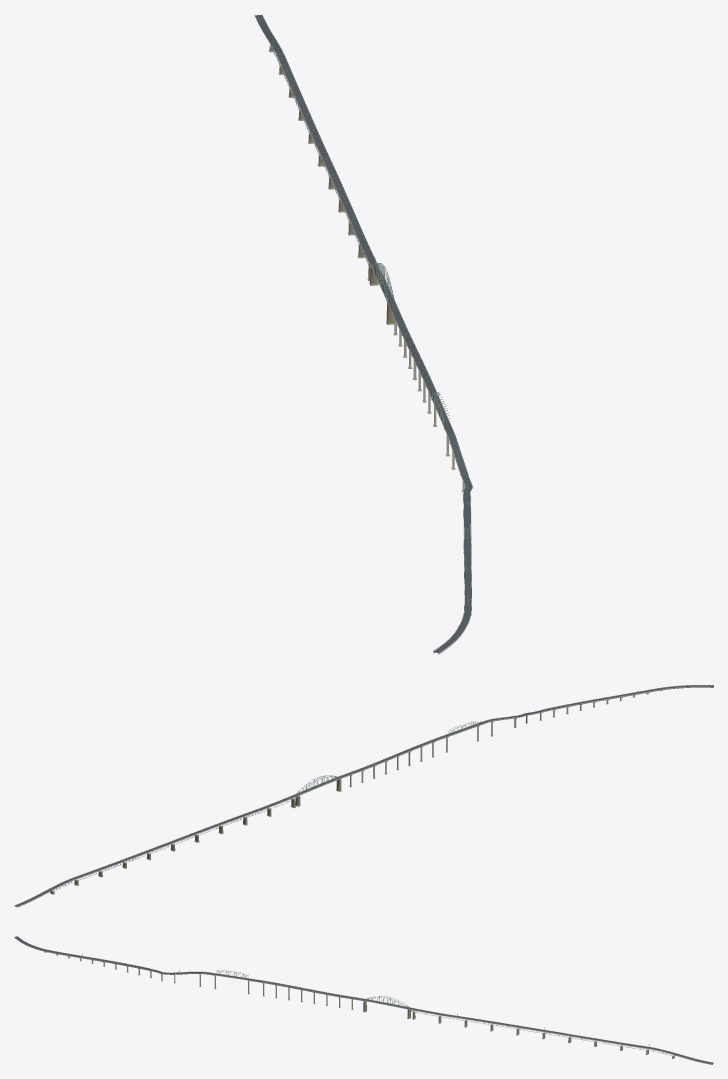
File: pont-honore-mercier-upstream-near.glb
3 renders of one model, top to bottom at view 1: azimuth 30°, elevation 25°; view 2: azimuth 150°, elevation 25°; view 3: azimuth 270°, elevation 25°, orthographic. The views are drawn at different scales.
Parts seen in each view (by area): view 1: pont-honore-mercier-upstream-0-asphalt, pont-honore-mercier-upstream-0-concrete; view 2: pont-honore-mercier-upstream-0-concrete, pont-honore-mercier-upstream-0-asphalt, pont-honore-mercier-upstream-1-concrete, pont-honore-mercier-upstream-1-steel, pont-honore-mercier-upstream-0-steel; view 3: pont-honore-mercier-upstream-0-concrete, pont-honore-mercier-upstream-0-asphalt, pont-honore-mercier-upstream-0-steel, pont-honore-mercier-upstream-1-concrete, pont-honore-mercier-upstream-1-steel, pont-honore-mercier-upstream-0-stone.
Boxes of the visible parts, x1,y1,x2,y2 form: pont-honore-mercier-upstream-0-asphalt: (255,15,472,653); pont-honore-mercier-upstream-0-concrete: (254,14,472,653); pont-honore-mercier-upstream-0-concrete: (14,685,713,907); pont-honore-mercier-upstream-0-asphalt: (14,685,713,906); pont-honore-mercier-upstream-1-concrete: (336,697,622,791); pont-honore-mercier-upstream-1-steel: (317,687,713,786); pont-honore-mercier-upstream-0-steel: (14,778,319,907); pont-honore-mercier-upstream-0-concrete: (14,936,713,1064); pont-honore-mercier-upstream-0-asphalt: (15,936,713,1063); pont-honore-mercier-upstream-0-steel: (387,996,712,1064); pont-honore-mercier-upstream-1-concrete: (79,958,367,1012); pont-honore-mercier-upstream-1-steel: (28,946,387,1005); pont-honore-mercier-upstream-0-stone: (407,1009,674,1058).
Size of the model in its own units: 788 by 55.4 by 1819.
